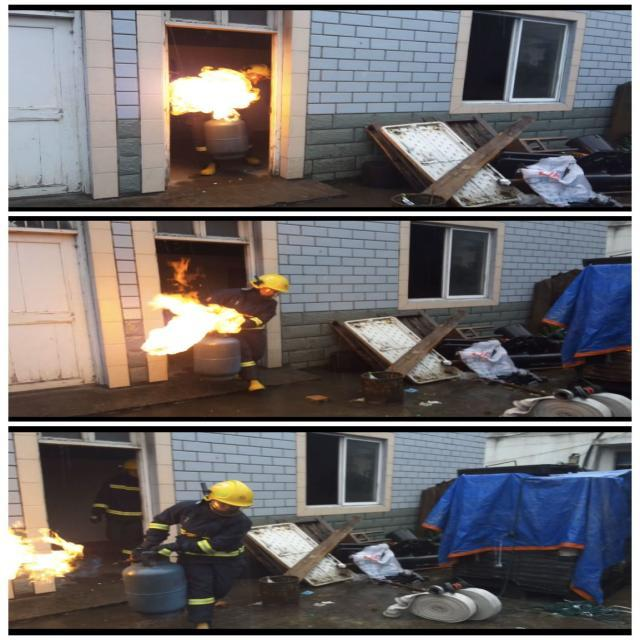Fire: (141, 291, 250, 360), (162, 63, 268, 121), (4, 523, 91, 587)
